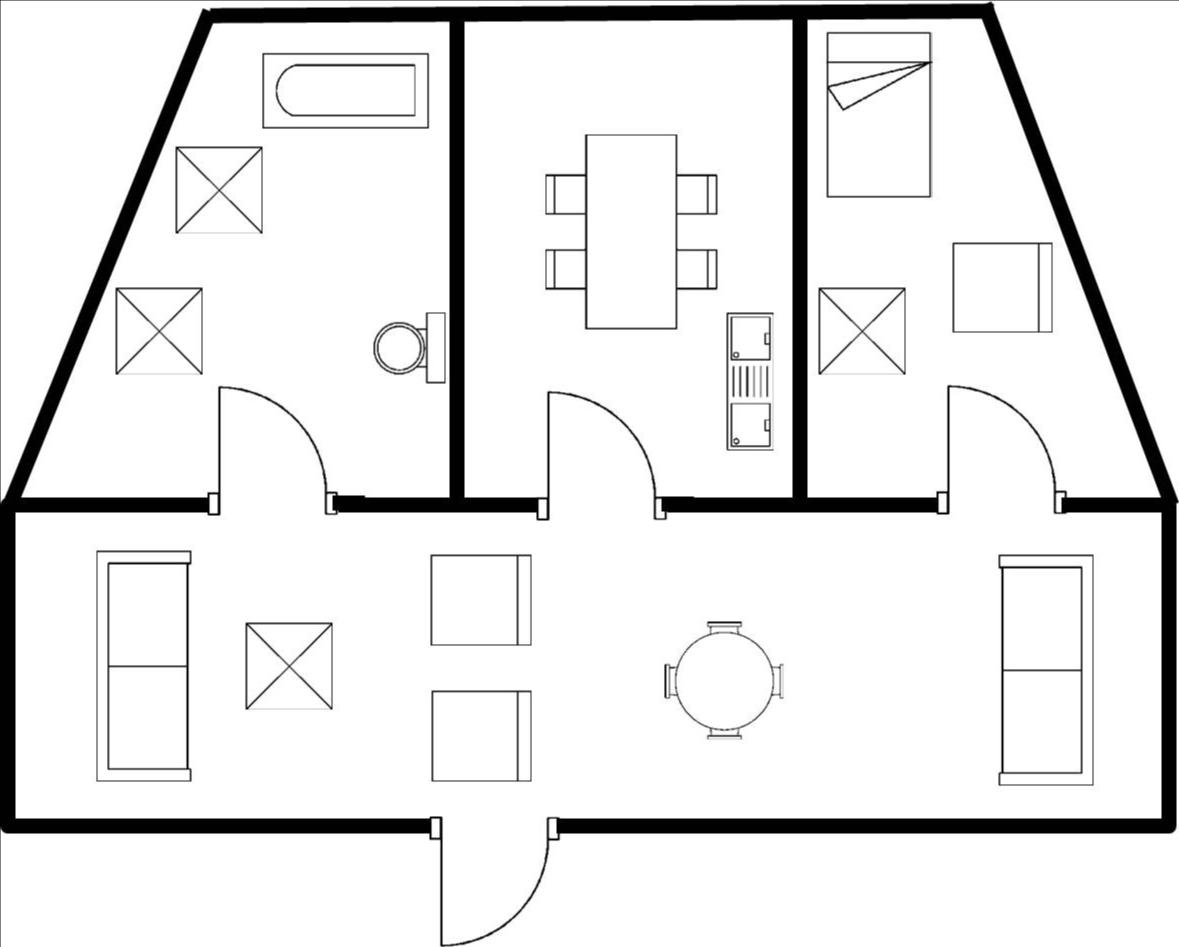sink: (718, 305, 780, 461)
